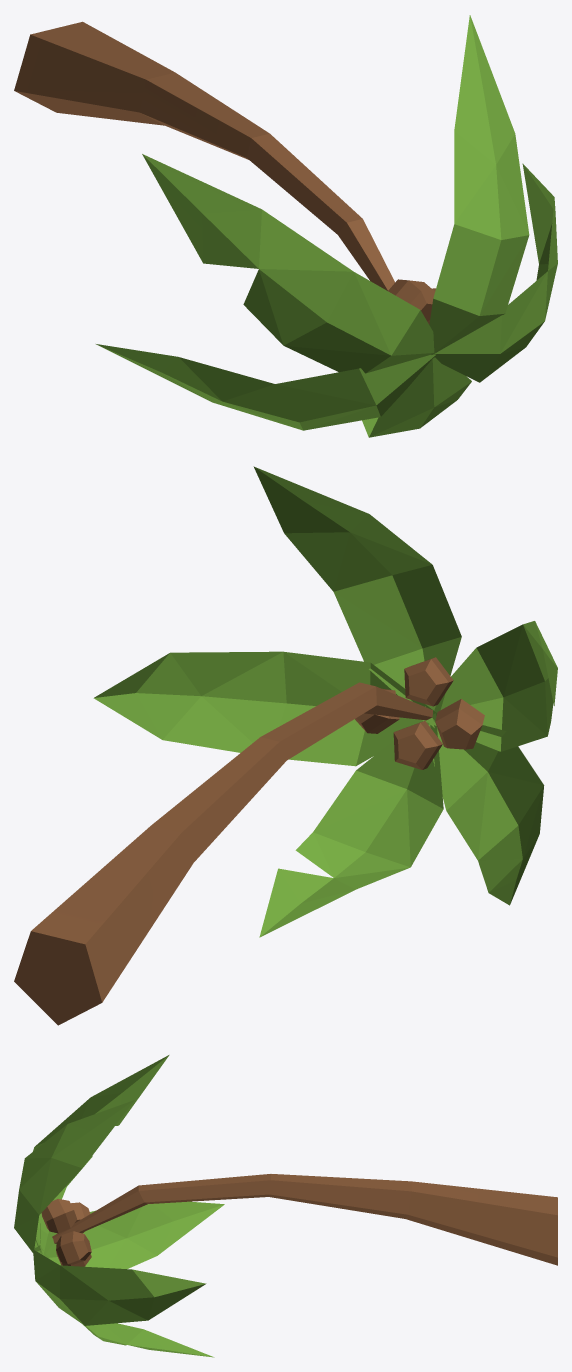
Rendered from palm1.glb.
3 views of the same model, one above another, from view 1: azimuth 30°, elevation 25°; view 2: azimuth 150°, elevation 25°; view 3: azimuth 270°, elevation 25° (orthographic). The views are drawn at different scales.
Parts seen in each view (by area): view 1: palm-big; view 2: palm-big; view 3: palm-big.
Boxes of the visible parts, <box> form: palm-big: <box>14,15,557,437</box>; palm-big: <box>14,466,557,1025</box>; palm-big: <box>14,1055,557,1357</box>.
Bounding box in the file's own units: 5.87 × 5.38 × 9.49.
1 material, 1 textured.
